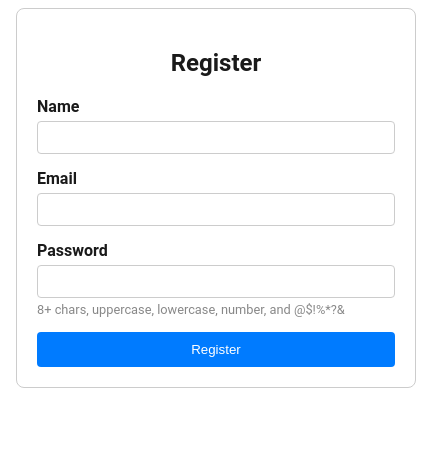
Register › shows error message on registration failure
Type "John" into the field labelled "Name". click: (216, 137)
box: 37,121 -> 395,154
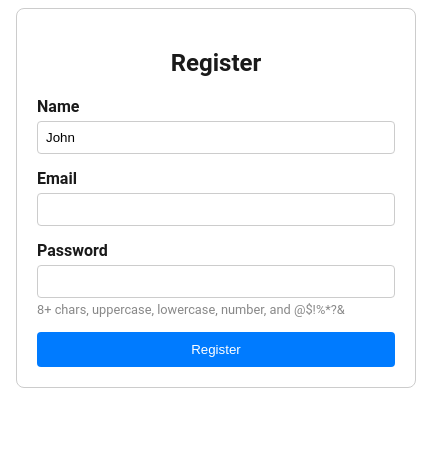
Type "dup@test.com" into the field labelled "Email". click: (216, 209)
box: 37,193 -> 395,226
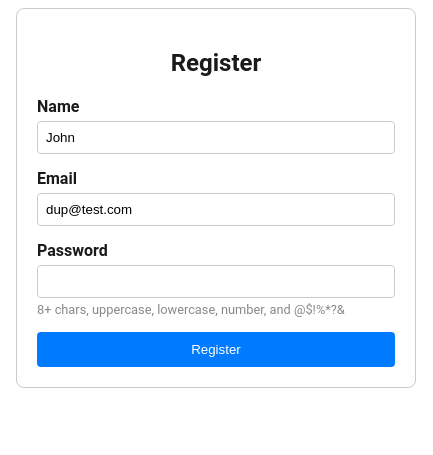
Type "Secret@123" into the password field labelled "Password". click: (216, 281)
box: 37,265 -> 395,298
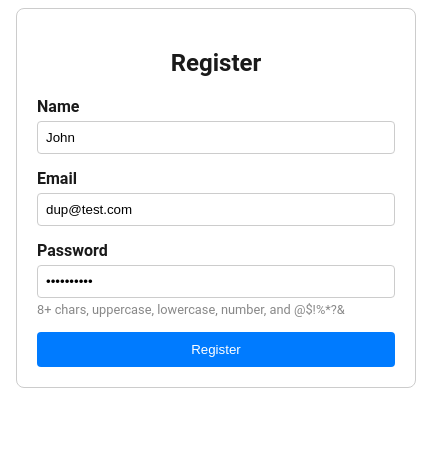
Click the button "Register". click: (216, 349)
box: 37,332 -> 395,367
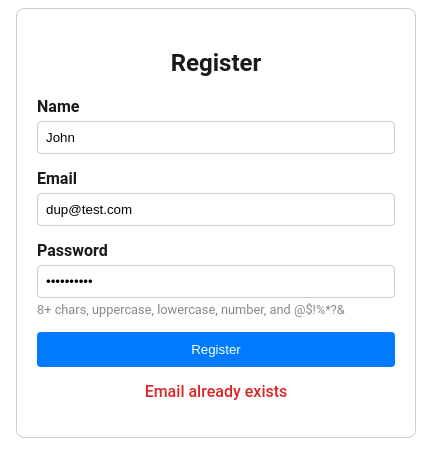
Expected: the text "Email already exists" is shown, 145,382 -> 287,401
